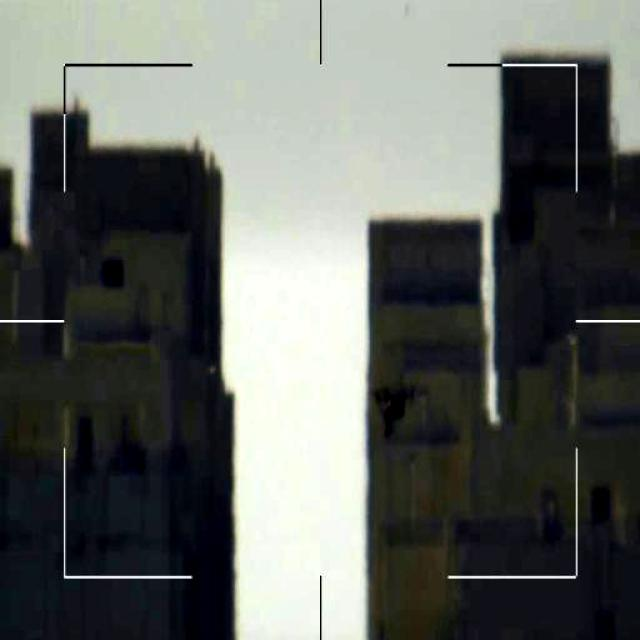bird: (368, 376, 419, 440)
